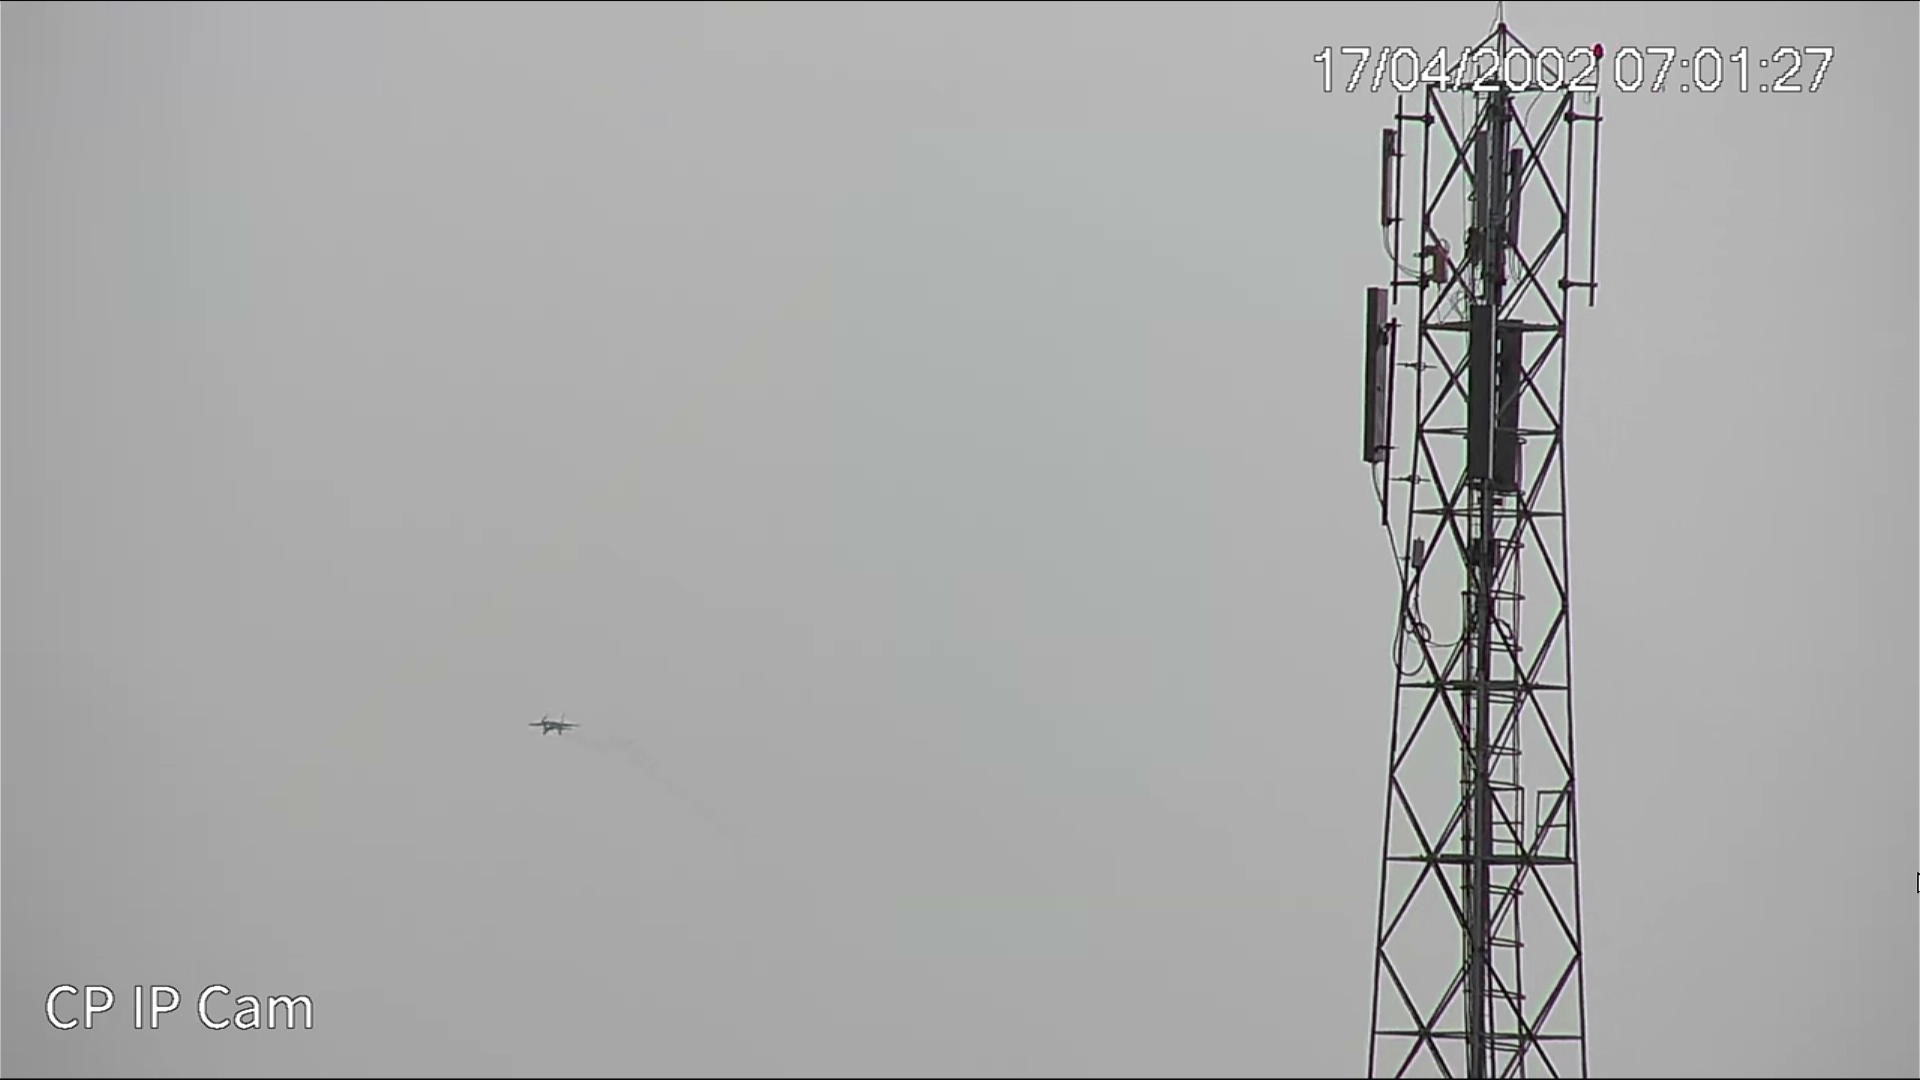SU_30: (527, 715, 582, 737)
